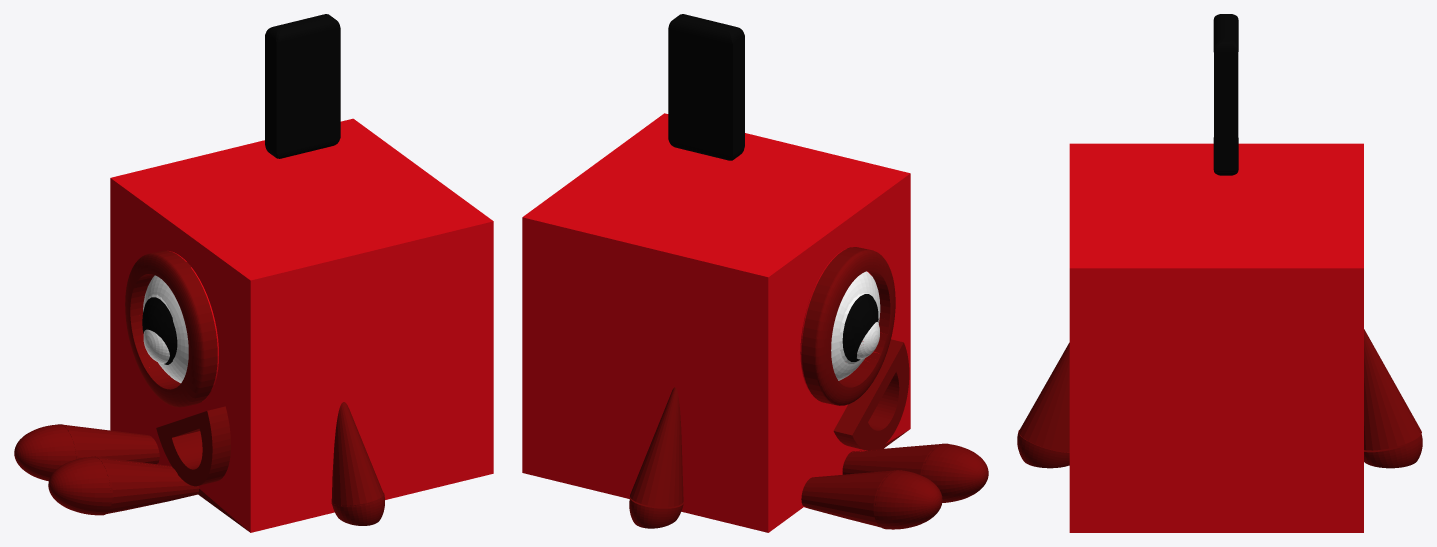
File: one.glb
3 renders of one model, left to right at view 1: azimuth 30°, elevation 25°; view 2: azimuth 150°, elevation 25°; view 3: azimuth 270°, elevation 25°, orthographic. The views are drawn at different scales.
Parts seen in each view (by area): view 1: NumberBlocks_One; view 2: NumberBlocks_One; view 3: NumberBlocks_One.
Part boxes in pixels (x1,y1,x2,y2): NumberBlocks_One: (14, 14, 493, 532); NumberBlocks_One: (522, 14, 988, 532); NumberBlocks_One: (1017, 14, 1422, 532).
Bounding box in the file's own units: 37.46 × 40.05 × 33.
